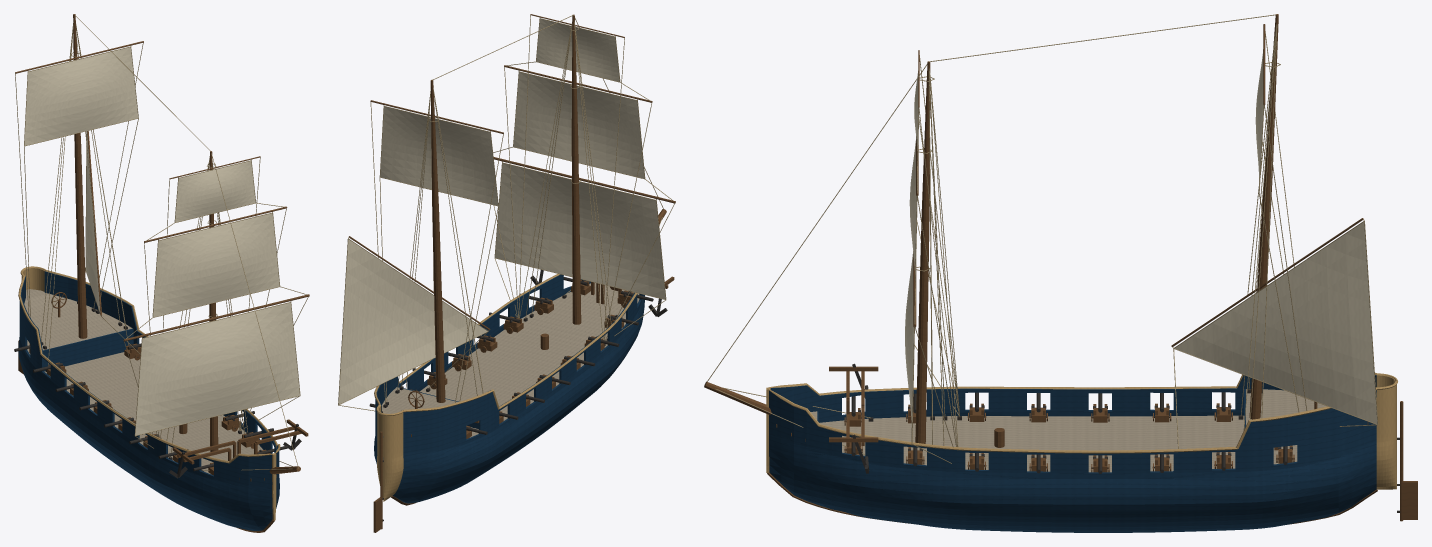
3 views of the same model, side by side, from view 1: azimuth 30°, elevation 25°; view 2: azimuth 150°, elevation 25°; view 3: azimuth 270°, elevation 25° (orthographic). The views are drawn at different scales.
Parts seen in each view (by area): view 1: lod1_fore_square_00, lod1_hull_shell_starboard, lod1_fore_square_01, lod1_main_square_00, lod1_main_deck, lod1_fore_square_02, lod1_castle_deck_0, lod1_hull_shell_port, lod1_main, lod1_castle_bulkhead_0_1, lod1_main_lateen_01, lod1_gunwale_starboard (+7 smaller); view 2: lod1_fore_square_00, lod1_hull_shell_starboard, lod1_main_lateen_01, lod1_fore_square_01, lod1_main_deck, lod1_main_square_00, lod1_fore_square_02, lod1_hull_shell_port, lod1_main, lod1_fore, lod1_stern_closure, lod1_castle_deck_0 (+2 smaller); view 3: lod1_hull_shell_port, lod1_main_lateen_01, lod1_main_deck, lod1_hull_shell_starboard, lod1_fore, lod1_main, lod1_stern_closure, lod1_gunwale_port, lod1_castle_deck_0, lod1_gunwale_starboard, lod1_fore_square_00.
Part boxes in pixels (<box>): lod1_fore_square_00: <box>135,302,299,435</box>; lod1_hull_shell_starboard: <box>18,276,272,530</box>; lod1_fore_square_01: <box>153,213,279,317</box>; lod1_main_square_00: <box>24,47,138,145</box>; lod1_main_deck: <box>27,340,262,473</box>; lod1_fore_square_02: <box>175,161,255,222</box>; lod1_castle_deck_0: <box>24,289,132,350</box>; lod1_hull_shell_port: <box>44,271,279,508</box>; lod1_main: <box>73,14,87,338</box>; lod1_castle_bulkhead_0_1: <box>42,328,133,371</box>; lod1_main_lateen_01: <box>85,131,100,312</box>; lod1_gunwale_starboard: <box>18,275,272,463</box>; lod1_fore_square_00: <box>495,163,665,299</box>; lod1_hull_shell_starboard: <box>392,292,644,503</box>; lod1_main_lateen_01: <box>338,239,487,404</box>; lod1_fore_square_01: <box>513,72,644,178</box>; lod1_main_deck: <box>383,283,639,459</box>; lod1_main_square_00: <box>380,106,498,205</box>; lod1_fore_square_02: <box>536,19,619,81</box>; lod1_hull_shell_port: <box>374,274,590,463</box>; lod1_main: <box>430,80,445,402</box>; lod1_fore: <box>571,14,581,324</box>; lod1_stern_closure: <box>377,406,403,501</box>; lod1_castle_deck_0: <box>382,387,457,437</box>; lod1_hull_shell_port: <box>769,390,1376,532</box>; lod1_main_lateen_01: <box>1175,222,1377,423</box>; lod1_main_deck: <box>819,415,1297,472</box>; lod1_hull_shell_starboard: <box>770,375,1376,422</box>; lod1_fore: <box>915,61,930,443</box>; lod1_main: <box>1249,14,1278,419</box>; lod1_stern_closure: <box>1376,375,1396,489</box>; lod1_gunwale_port: <box>768,387,1377,453</box>; lod1_castle_deck_0: <box>1246,389,1326,425</box>; lod1_gunwale_starboard: <box>768,372,1376,395</box>; lod1_fore_square_00: <box>905,251,913,427</box>.
Size of the model in its own units: 11.68 by 24.4 by 30.52.
7 materials, 7 textured.
